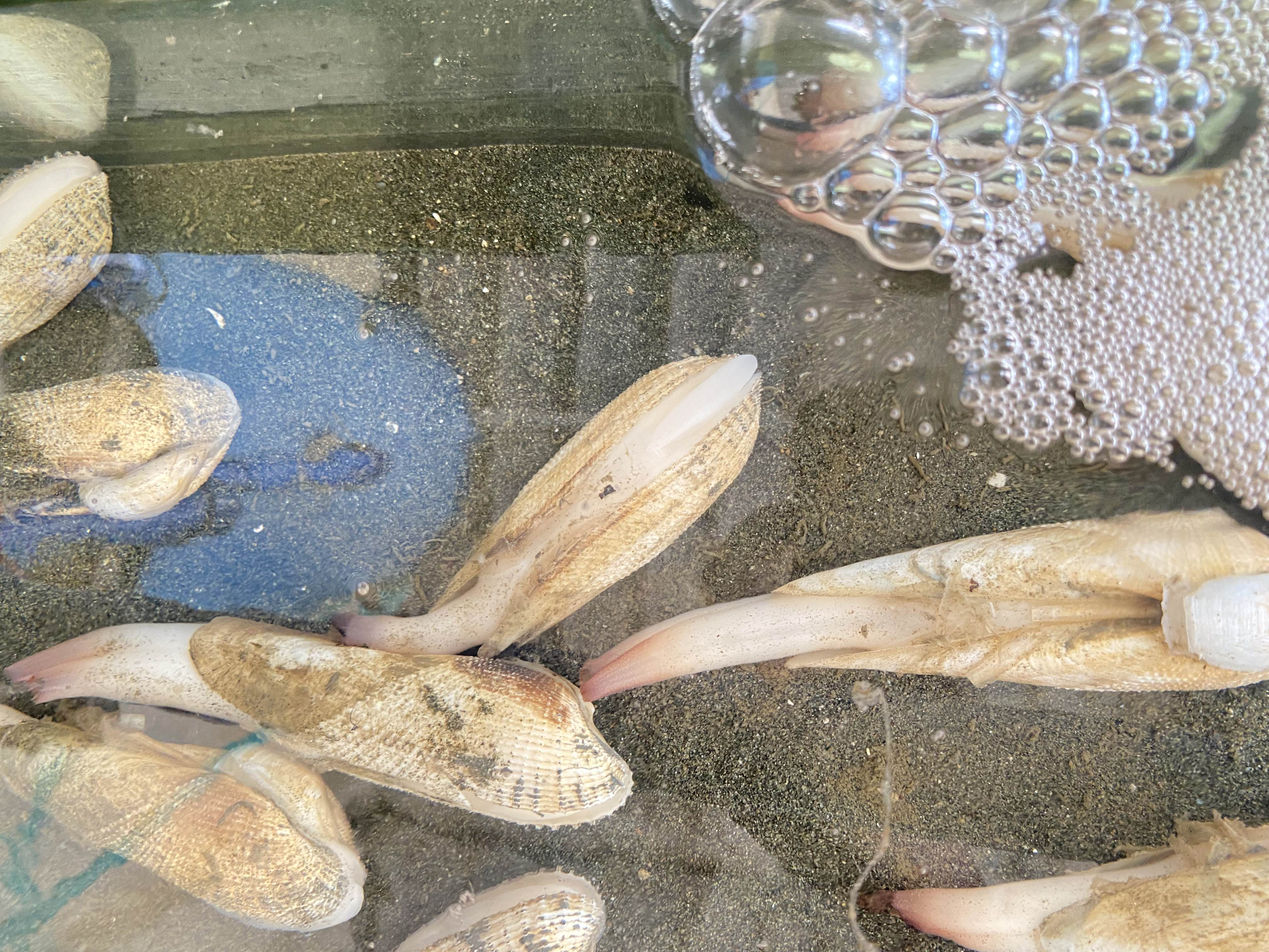Healthy: (580, 509, 1269, 700), (5, 617, 632, 826), (333, 355, 761, 656), (1038, 854, 1269, 952), (595, 501, 656, 504)
